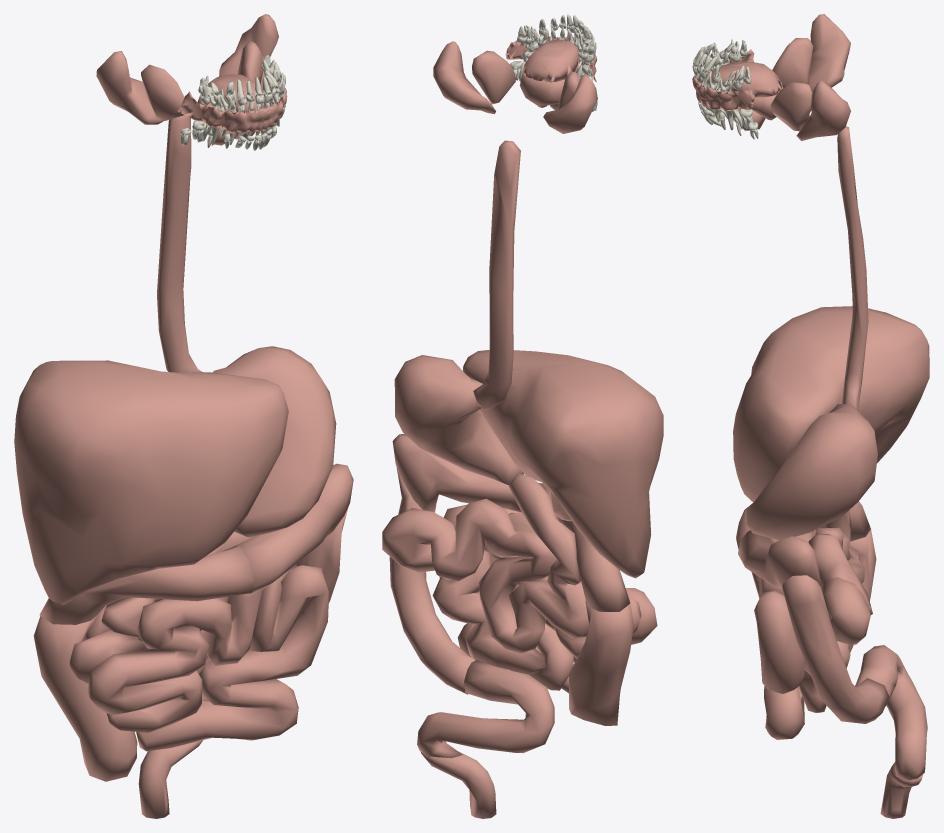
The model's file is pediatric_child_5y_female.digestive.LOD2.glb.
3 renders of one model, left to right at view 1: azimuth 30°, elevation 25°; view 2: azimuth 150°, elevation 25°; view 3: azimuth 270°, elevation 25°, orthographic. The views are drawn at different scales.
Parts seen in each view (by area): view 1: PEDIATRIC.CHILD_5Y.FEMALE.DIGESTIVE.LIVER, PEDIATRIC.CHILD_5Y.FEMALE.DIGESTIVE.SMALL_INTESTINE_WALL, PEDIATRIC.CHILD_5Y.FEMALE.DIGESTIVE.STOMACH_WALL, PEDIATRIC.CHILD_5Y.FEMALE.DIGESTIVE.ASCENDING_COLON_WALL, PEDIATRIC.CHILD_5Y.FEMALE.DIGESTIVE.TRANSVERSE_COLON_WALL.R, PEDIATRIC.CHILD_5Y.FEMALE.DIGESTIVE.OESOPHAGUS_WALL, PEDIATRIC.CHILD_5Y.FEMALE.DIGESTIVE.TRANSVERSE_COLON_WALL.L, PEDIATRIC.CHILD_5Y.FEMALE.DIGESTIVE.SALIVARY_GLANDS.R, PEDIATRIC.CHILD_5Y.FEMALE.DIGESTIVE.RECTUM_WALL, PEDIATRIC.CHILD_5Y.FEMALE.DIGESTIVE.SALIVARY_GLANDS.L, PEDIATRIC.CHILD_5Y.FEMALE.DIGESTIVE.ORAL_MUCOSA_LIP_AND_CHEE, PEDIATRIC.CHILD_5Y.FEMALE.DIGESTIVE.PERMANENT_CEMENTUM (+4 smaller); view 2: PEDIATRIC.CHILD_5Y.FEMALE.DIGESTIVE.SMALL_INTESTINE_WALL, PEDIATRIC.CHILD_5Y.FEMALE.DIGESTIVE.LIVER, PEDIATRIC.CHILD_5Y.FEMALE.DIGESTIVE.STOMACH_WALL, PEDIATRIC.CHILD_5Y.FEMALE.DIGESTIVE.SIGMOID_COLON_WALL, PEDIATRIC.CHILD_5Y.FEMALE.DIGESTIVE.OESOPHAGUS_WALL, PEDIATRIC.CHILD_5Y.FEMALE.DIGESTIVE.ASCENDING_COLON_WALL, PEDIATRIC.CHILD_5Y.FEMALE.DIGESTIVE.DESCENDING_COLON_WALL, PEDIATRIC.CHILD_5Y.FEMALE.DIGESTIVE.TRANSVERSE_COLON_WALL.L, PEDIATRIC.CHILD_5Y.FEMALE.DIGESTIVE.SALIVARY_GLANDS.L, PEDIATRIC.CHILD_5Y.FEMALE.DIGESTIVE.TRANSVERSE_COLON_WALL.R, PEDIATRIC.CHILD_5Y.FEMALE.DIGESTIVE.RECTUM_WALL, PEDIATRIC.CHILD_5Y.FEMALE.DIGESTIVE.SALIVARY_GLANDS.R (+5 smaller); view 3: PEDIATRIC.CHILD_5Y.FEMALE.DIGESTIVE.LIVER, PEDIATRIC.CHILD_5Y.FEMALE.DIGESTIVE.SMALL_INTESTINE_WALL, PEDIATRIC.CHILD_5Y.FEMALE.DIGESTIVE.STOMACH_WALL, PEDIATRIC.CHILD_5Y.FEMALE.DIGESTIVE.DESCENDING_COLON_WALL, PEDIATRIC.CHILD_5Y.FEMALE.DIGESTIVE.SIGMOID_COLON_WALL, PEDIATRIC.CHILD_5Y.FEMALE.DIGESTIVE.OESOPHAGUS_WALL, PEDIATRIC.CHILD_5Y.FEMALE.DIGESTIVE.SALIVARY_GLANDS.R, PEDIATRIC.CHILD_5Y.FEMALE.DIGESTIVE.SALIVARY_GLANDS.L, PEDIATRIC.CHILD_5Y.FEMALE.DIGESTIVE.TRANSVERSE_COLON_WALL.L, PEDIATRIC.CHILD_5Y.FEMALE.DIGESTIVE.ORAL_MUCOSA_LIP_AND_CHEE, PEDIATRIC.CHILD_5Y.FEMALE.DIGESTIVE.PERMANENT_CEMENTUM, PEDIATRIC.CHILD_5Y.FEMALE.DIGESTIVE.RECTUM_WALL (+5 smaller).
Boxes of the visible parts, left/top/right/bottom form: PEDIATRIC.CHILD_5Y.FEMALE.DIGESTIVE.LIVER: left=14, top=360, right=288, bottom=604; PEDIATRIC.CHILD_5Y.FEMALE.DIGESTIVE.SMALL_INTESTINE_WALL: left=69, top=532, right=328, bottom=751; PEDIATRIC.CHILD_5Y.FEMALE.DIGESTIVE.STOMACH_WALL: left=213, top=346, right=336, bottom=537; PEDIATRIC.CHILD_5Y.FEMALE.DIGESTIVE.ASCENDING_COLON_WALL: left=33, top=616, right=137, bottom=781; PEDIATRIC.CHILD_5Y.FEMALE.DIGESTIVE.TRANSVERSE_COLON_WALL.R: left=39, top=546, right=253, bottom=624; PEDIATRIC.CHILD_5Y.FEMALE.DIGESTIVE.OESOPHAGUS_WALL: left=157, top=115, right=202, bottom=372; PEDIATRIC.CHILD_5Y.FEMALE.DIGESTIVE.TRANSVERSE_COLON_WALL.L: left=234, top=463, right=353, bottom=593; PEDIATRIC.CHILD_5Y.FEMALE.DIGESTIVE.SALIVARY_GLANDS.R: left=96, top=51, right=236, bottom=145; PEDIATRIC.CHILD_5Y.FEMALE.DIGESTIVE.RECTUM_WALL: left=138, top=740, right=202, bottom=818; PEDIATRIC.CHILD_5Y.FEMALE.DIGESTIVE.SALIVARY_GLANDS.L: left=219, top=14, right=278, bottom=139; PEDIATRIC.CHILD_5Y.FEMALE.DIGESTIVE.ORAL_MUCOSA_LIP_AND_CHEE: left=177, top=88, right=287, bottom=133; PEDIATRIC.CHILD_5Y.FEMALE.DIGESTIVE.PERMANENT_CEMENTUM: left=180, top=55, right=285, bottom=150; PEDIATRIC.CHILD_5Y.FEMALE.DIGESTIVE.SMALL_INTESTINE_WALL: left=382, top=473, right=657, bottom=693; PEDIATRIC.CHILD_5Y.FEMALE.DIGESTIVE.LIVER: left=463, top=350, right=663, bottom=578; PEDIATRIC.CHILD_5Y.FEMALE.DIGESTIVE.STOMACH_WALL: left=394, top=355, right=523, bottom=485; PEDIATRIC.CHILD_5Y.FEMALE.DIGESTIVE.SIGMOID_COLON_WALL: left=417, top=660, right=554, bottom=758; PEDIATRIC.CHILD_5Y.FEMALE.DIGESTIVE.OESOPHAGUS_WALL: left=473, top=140, right=520, bottom=409; PEDIATRIC.CHILD_5Y.FEMALE.DIGESTIVE.ASCENDING_COLON_WALL: left=569, top=601, right=633, bottom=725; PEDIATRIC.CHILD_5Y.FEMALE.DIGESTIVE.DESCENDING_COLON_WALL: left=389, top=467, right=474, bottom=694; PEDIATRIC.CHILD_5Y.FEMALE.DIGESTIVE.TRANSVERSE_COLON_WALL.L: left=392, top=434, right=521, bottom=512; PEDIATRIC.CHILD_5Y.FEMALE.DIGESTIVE.SALIVARY_GLANDS.L: left=433, top=41, right=547, bottom=114; PEDIATRIC.CHILD_5Y.FEMALE.DIGESTIVE.TRANSVERSE_COLON_WALL.R: left=539, top=483, right=630, bottom=611; PEDIATRIC.CHILD_5Y.FEMALE.DIGESTIVE.RECTUM_WALL: left=421, top=751, right=496, bottom=818; PEDIATRIC.CHILD_5Y.FEMALE.DIGESTIVE.SALIVARY_GLANDS.R: left=543, top=71, right=597, bottom=133; PEDIATRIC.CHILD_5Y.FEMALE.DIGESTIVE.LIVER: left=733, top=306, right=929, bottom=502; PEDIATRIC.CHILD_5Y.FEMALE.DIGESTIVE.SMALL_INTESTINE_WALL: left=751, top=510, right=872, bottom=739; PEDIATRIC.CHILD_5Y.FEMALE.DIGESTIVE.STOMACH_WALL: left=746, top=403, right=877, bottom=540; PEDIATRIC.CHILD_5Y.FEMALE.DIGESTIVE.DESCENDING_COLON_WALL: left=782, top=575, right=889, bottom=723; PEDIATRIC.CHILD_5Y.FEMALE.DIGESTIVE.SIGMOID_COLON_WALL: left=855, top=645, right=927, bottom=780; PEDIATRIC.CHILD_5Y.FEMALE.DIGESTIVE.OESOPHAGUS_WALL: left=837, top=126, right=868, bottom=410; PEDIATRIC.CHILD_5Y.FEMALE.DIGESTIVE.SALIVARY_GLANDS.R: left=772, top=14, right=850, bottom=92; PEDIATRIC.CHILD_5Y.FEMALE.DIGESTIVE.SALIVARY_GLANDS.L: left=733, top=81, right=850, bottom=140; PEDIATRIC.CHILD_5Y.FEMALE.DIGESTIVE.TRANSVERSE_COLON_WALL.L: left=738, top=530, right=822, bottom=590; PEDIATRIC.CHILD_5Y.FEMALE.DIGESTIVE.ORAL_MUCOSA_LIP_AND_CHEE: left=692, top=49, right=754, bottom=110; PEDIATRIC.CHILD_5Y.FEMALE.DIGESTIVE.PERMANENT_CEMENTUM: left=693, top=39, right=758, bottom=139; PEDIATRIC.CHILD_5Y.FEMALE.DIGESTIVE.RECTUM_WALL: left=880, top=762, right=922, bottom=818.
Size of the model in its own units: 0.1878 by 0.479 by 0.1345.
